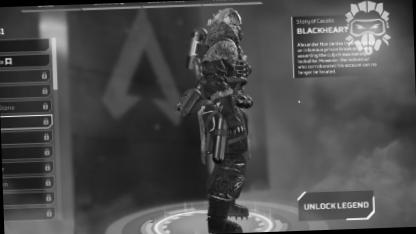Target: (183, 6, 254, 194)
